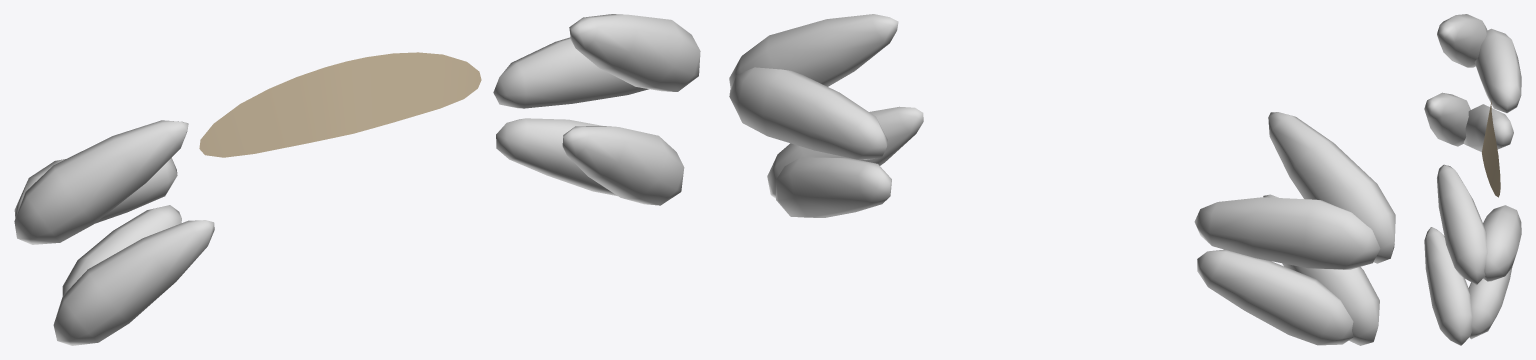
File: S12_Bug04_L2_Mouth.glb
3 views of the same model, side by side, from view 1: azimuth 30°, elevation 25°; view 2: azimuth 150°, elevation 25°; view 3: azimuth 270°, elevation 25° (orthographic). The views are drawn at different scales.
Parts seen in each view (by area): view 1: S12_Bug04_L2_Mouth__Mouth_M__surface0__lod0; view 2: S12_Bug04_L2_Mouth__Mouth_M__surface0__lod0; view 3: S12_Bug04_L2_Mouth__Mouth_M__surface0__lod0.
Part boxes in pixels (x1,y1,x2,y2): S12_Bug04_L2_Mouth__Mouth_M__surface0__lod0: [14, 14, 700, 345]; S12_Bug04_L2_Mouth__Mouth_M__surface0__lod0: [729, 14, 1395, 345]; S12_Bug04_L2_Mouth__Mouth_M__surface0__lod0: [1424, 14, 1521, 345].
Bounding box in the file's own units: 0.6531 × 0.1913 × 0.1139.
